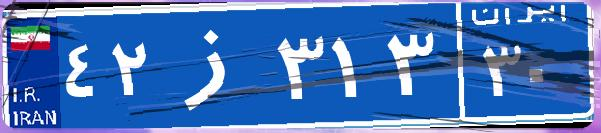0: (525, 38, 570, 115)
1: (330, 28, 385, 110)
2: (110, 28, 158, 105)
3: (385, 28, 445, 110), (273, 28, 330, 110), (475, 38, 525, 113)
4: (57, 26, 110, 107)
ز: (158, 15, 273, 115)
